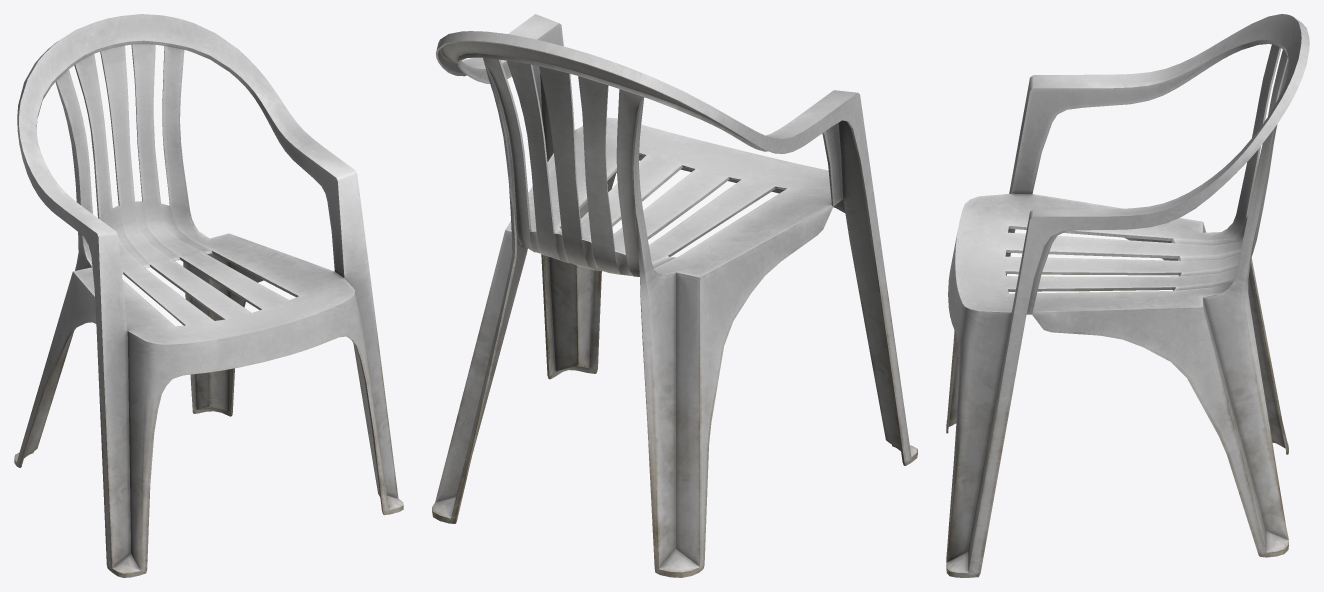
File: plastic_monobloc_chair_01.glb
3 renders of one model, left to right at view 1: azimuth 30°, elevation 25°; view 2: azimuth 150°, elevation 25°; view 3: azimuth 270°, elevation 25°, orthographic. The views are drawn at different scales.
Visible parts, largest first — view 1: plastic_monobloc_chair_01; view 2: plastic_monobloc_chair_01; view 3: plastic_monobloc_chair_01.
Boxes of the visible parts, x1,y1,x2,y2 form: plastic_monobloc_chair_01: [14, 14, 403, 577]; plastic_monobloc_chair_01: [432, 14, 917, 577]; plastic_monobloc_chair_01: [946, 14, 1309, 577].
Size of the model in its own units: 0.6418 by 0.8798 by 0.6276.
1 material, 1 textured.
